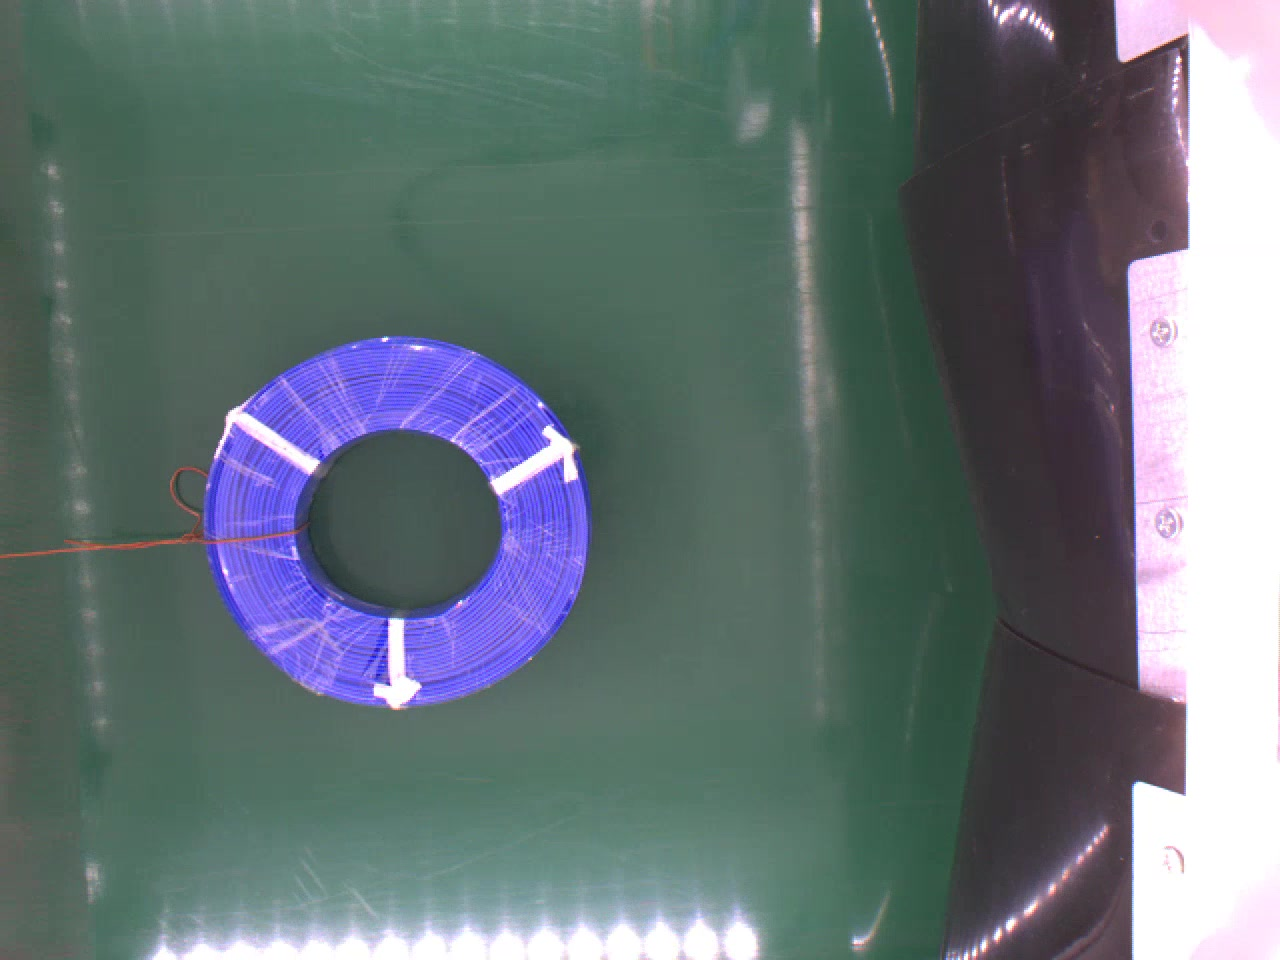blue: (208, 329, 600, 707)
